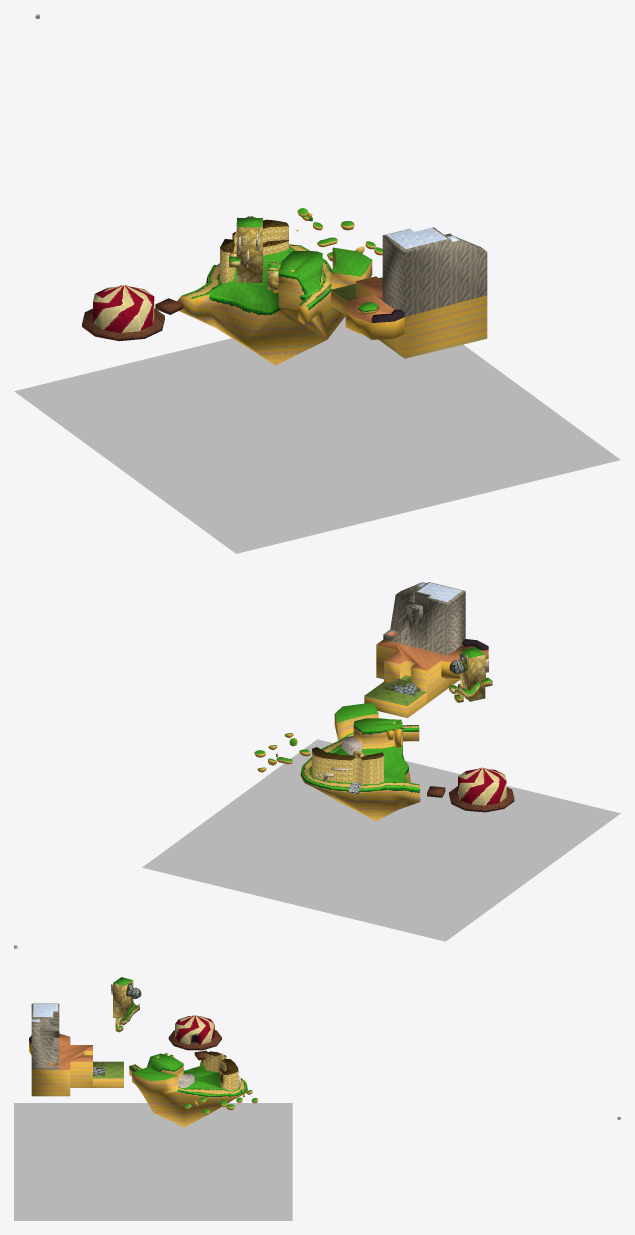
Rendered from level 8 area 1.obj.
3 views of the same model, one above another, from view 1: azimuth 30°, elevation 25°; view 2: azimuth 150°, elevation 25°; view 3: azimuth 270°, elevation 25° (orthographic). The views are drawn at different scales.
Parts seen in each view (by area): view 1: Plane, Circle; view 2: Plane, Circle; view 3: Plane, Circle.
Part boxes in pixels (x1,y1,x2,y2): Plane: [14, 316, 620, 553]; Circle: [82, 208, 487, 365]; Plane: [142, 739, 620, 941]; Circle: [254, 582, 514, 821]; Plane: [14, 1103, 292, 1220]; Circle: [29, 977, 258, 1127].
Size of the model in its own units: 249 by 152 by 538.
